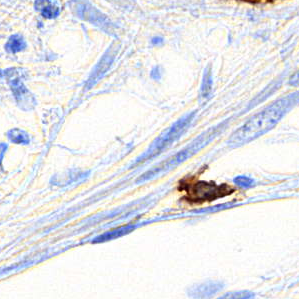Lymphocyte: (178, 172, 237, 205)
